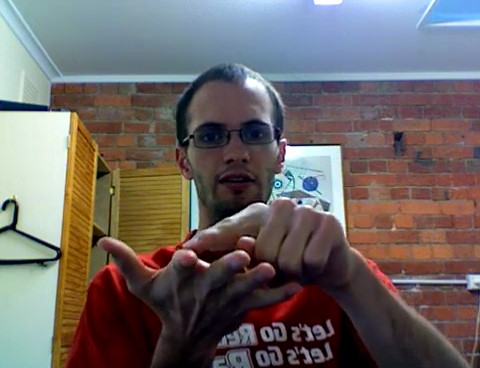E: (93, 197, 355, 328)
